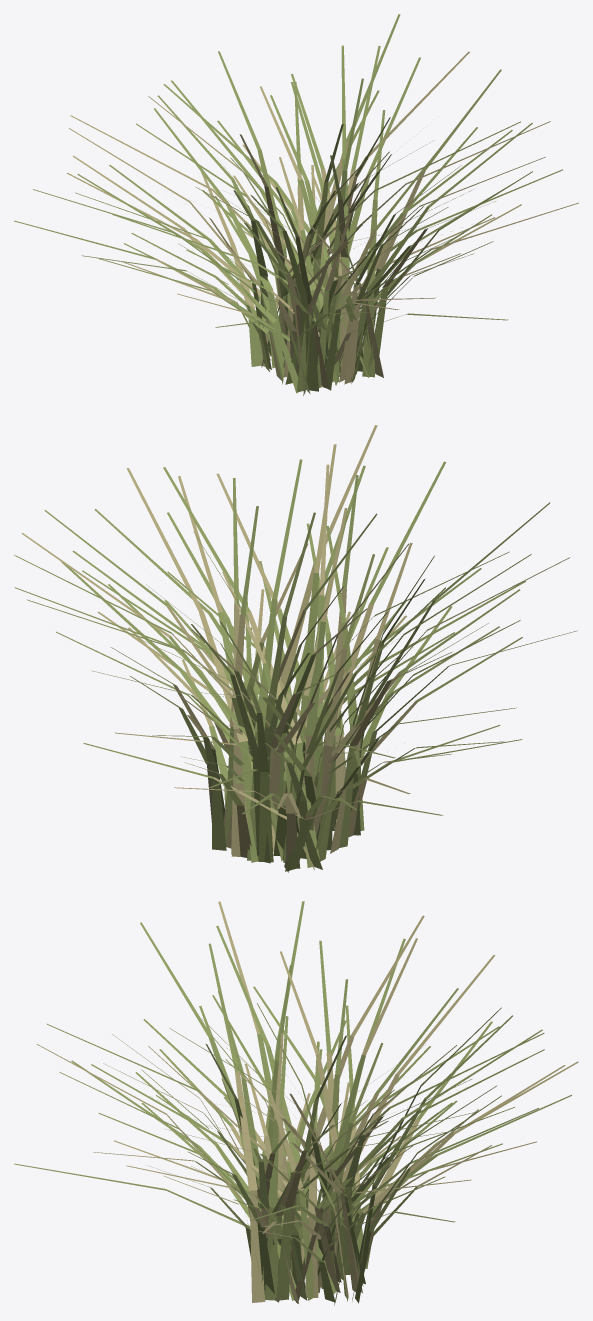
File: tufted-grass.glb
The picture shows the model from 3 angles, top to bottom: view 1: azimuth 30°, elevation 25°; view 2: azimuth 150°, elevation 25°; view 3: azimuth 270°, elevation 25°; orthographic projection. The views are drawn at different scales.
Parts seen in each view (by area): view 1: tufted-grass; view 2: tufted-grass; view 3: tufted-grass.
Part boxes in pixels (left/top/right/bottom): tufted-grass: left=14, top=14, right=578, bottom=395; tufted-grass: left=14, top=425, right=577, bottom=872; tufted-grass: left=14, top=901, right=578, bottom=1305.
Bounding box in the file's own units: 1.09 × 0.5969 × 1.08.
